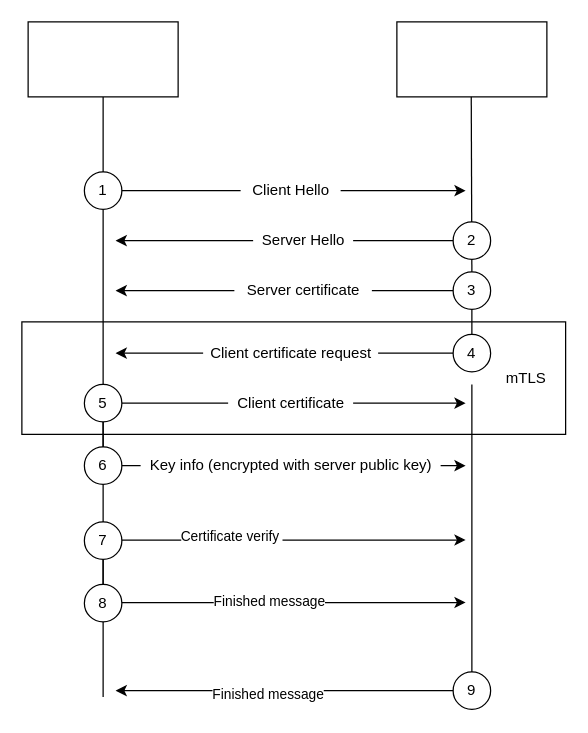
Image size: 588x733. Some labels were removed from this diagram. The shapes that lost their labels are listed below. From the top down, each one's centre as x and y in pixels, then its label:
point 102,59: Client
point 471,59: Server
